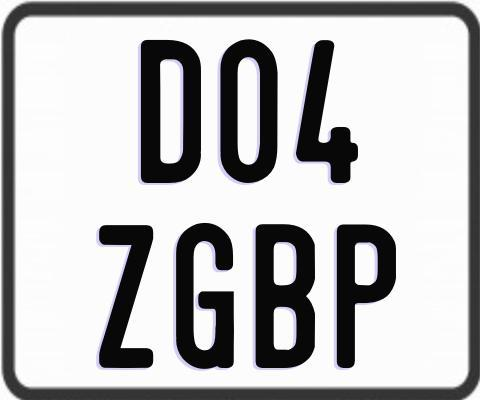0: (217, 38, 275, 182)
4: (293, 39, 358, 182)
B: (254, 222, 313, 366)
D: (139, 38, 199, 186)
G: (173, 221, 235, 368)
P: (335, 223, 397, 368)
Z: (99, 222, 153, 369)
